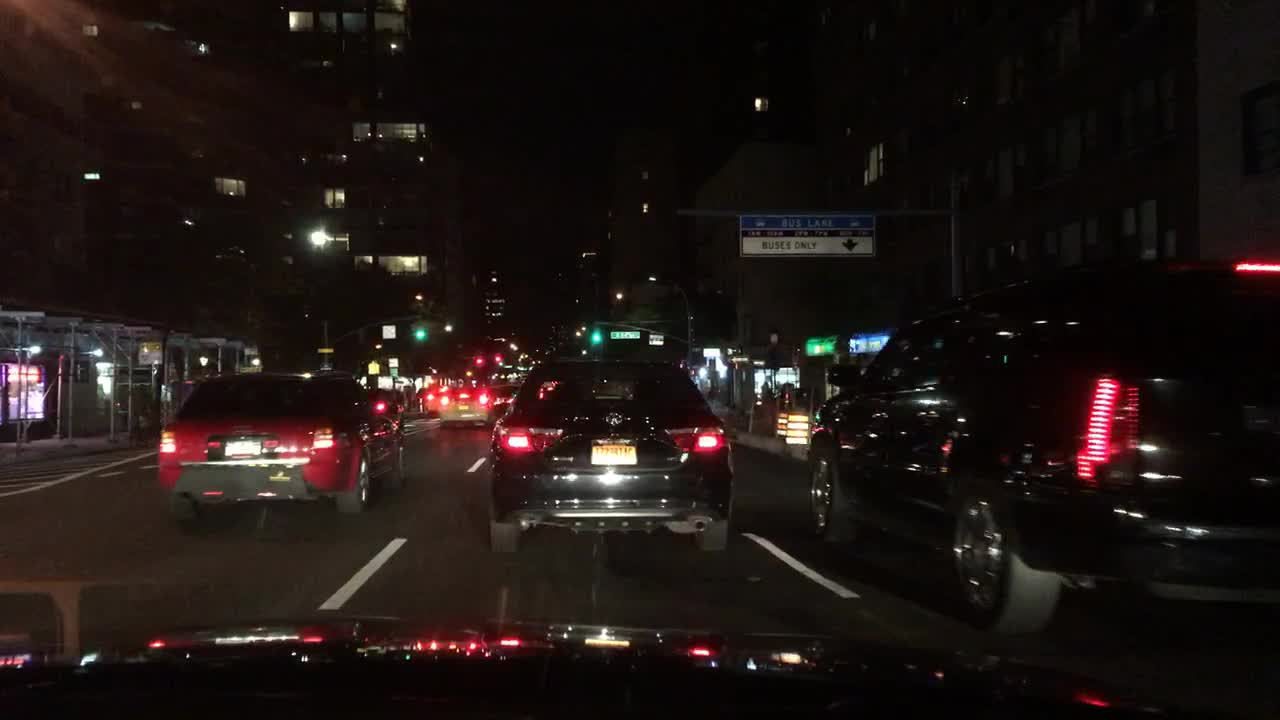car: (807, 261, 1279, 640), (483, 358, 737, 555), (152, 369, 404, 517), (438, 379, 493, 428), (492, 383, 521, 412), (423, 383, 443, 415)
traffic light: (413, 323, 428, 339), (592, 325, 601, 345), (473, 352, 484, 367), (493, 352, 504, 363)
traffic sign: (738, 213, 875, 254), (138, 341, 161, 363), (381, 323, 397, 339), (612, 332, 641, 339), (728, 355, 749, 363), (703, 347, 719, 356), (368, 360, 379, 373), (650, 334, 663, 344), (244, 346, 257, 354), (389, 358, 400, 366), (320, 362, 331, 370), (390, 369, 399, 378), (392, 379, 402, 385), (318, 348, 334, 351)
